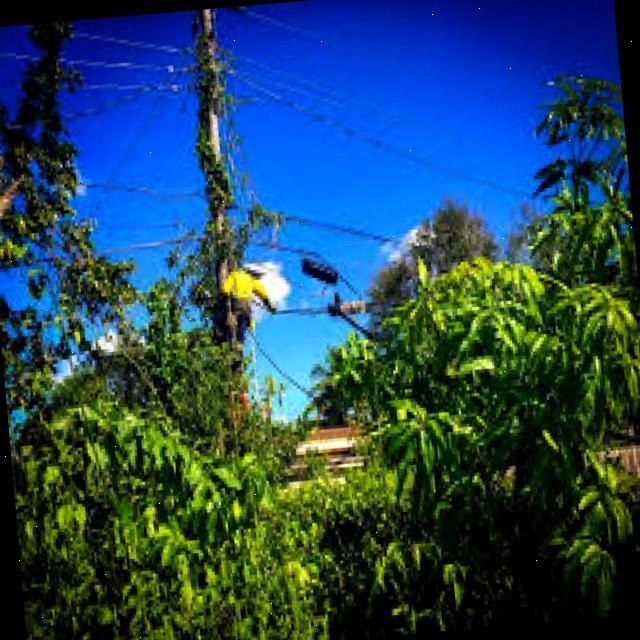critical vegetation: (87, 14, 342, 380)
